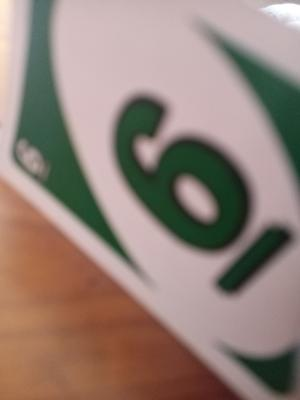green: (24, 89, 293, 226)
